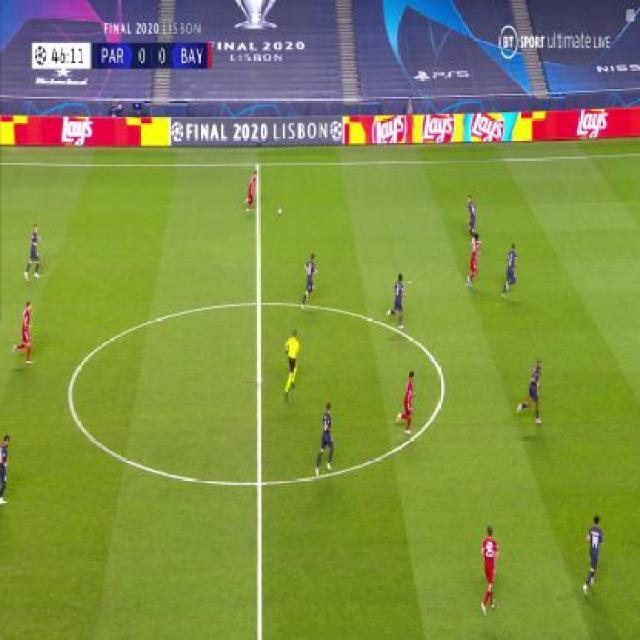ball: (278, 206, 283, 215)
player: (478, 526, 500, 615), (515, 359, 543, 427), (582, 514, 605, 596), (314, 400, 337, 477), (13, 300, 36, 365), (396, 370, 418, 433), (387, 272, 409, 331), (282, 330, 301, 398), (300, 250, 319, 310), (500, 242, 519, 299), (25, 223, 44, 280), (465, 233, 482, 287), (0, 431, 11, 504), (243, 169, 260, 214), (465, 194, 479, 242)
